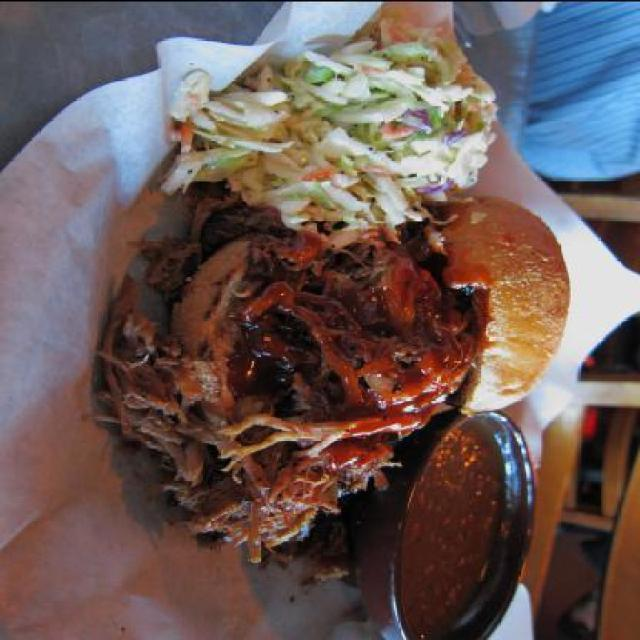Salad: (149, 9, 511, 234)
